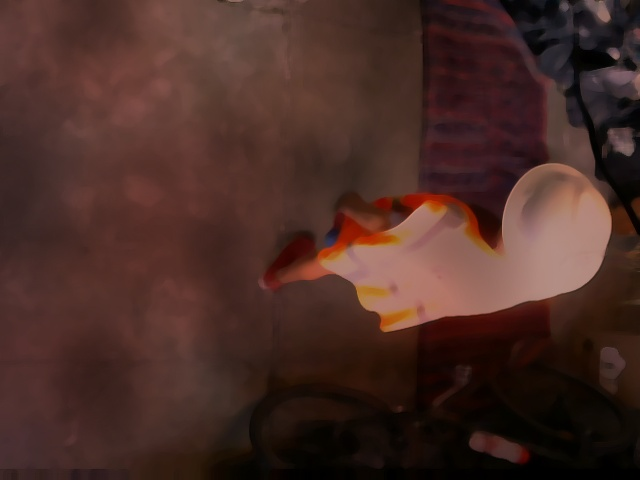eight: (558, 247, 601, 280)
